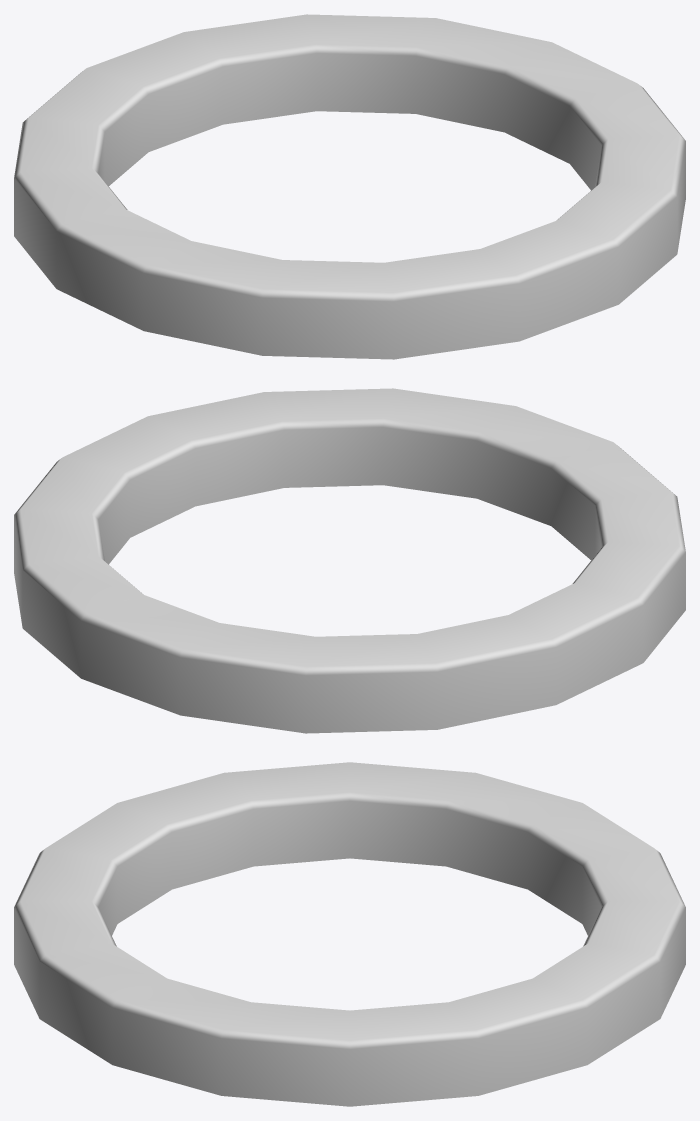
File: space_station_022.fbx
3 views of the same model, one above another, from view 1: azimuth 30°, elevation 25°; view 2: azimuth 150°, elevation 25°; view 3: azimuth 270°, elevation 25° (orthographic).
Parts seen in each view (by area): view 1: space_station_022; view 2: space_station_022; view 3: space_station_022.
Boxes of the visible parts, x1,y1,x2,y2 form: space_station_022: (14, 14, 685, 359); space_station_022: (14, 388, 685, 733); space_station_022: (14, 762, 685, 1106).
Bounding box in the file's own units: 2392 × 2392 × 249.
